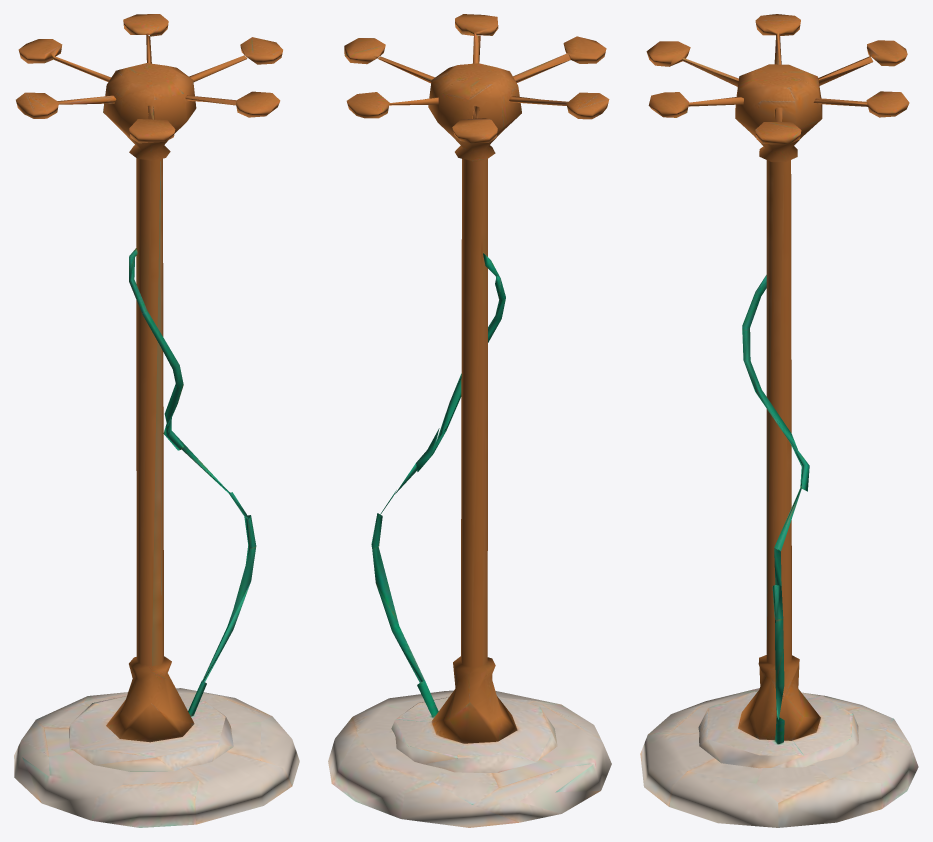
Rendered from sprinkler.glb.
The picture shows the model from 3 angles, left to right: view 1: azimuth 30°, elevation 25°; view 2: azimuth 150°, elevation 25°; view 3: azimuth 270°, elevation 25°; orthographic projection.
Parts seen in each view (by area): view 1: sprinkler; view 2: sprinkler; view 3: sprinkler.
Boxes of the visible parts, x1=… form: sprinkler: x1=14, y1=14, x2=299, y2=827; sprinkler: x1=328, y1=14, x2=611, y2=827; sprinkler: x1=640, y1=14, x2=918, y2=827.
Bounding box in the file's own units: 0.1943 × 0.5 × 0.1822.
1 material, 1 textured.
